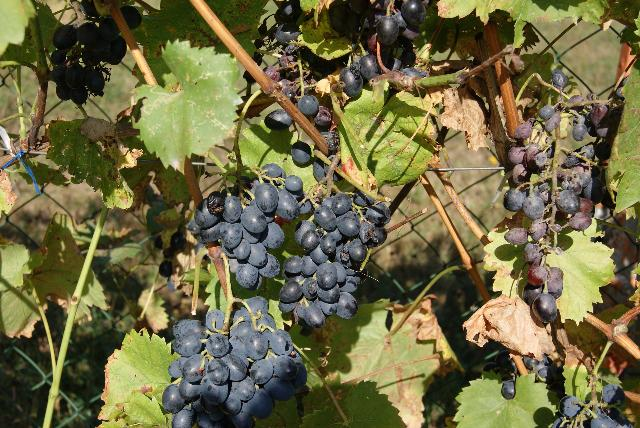grapes: (161, 296, 308, 428), (279, 192, 390, 328), (191, 164, 302, 291)
